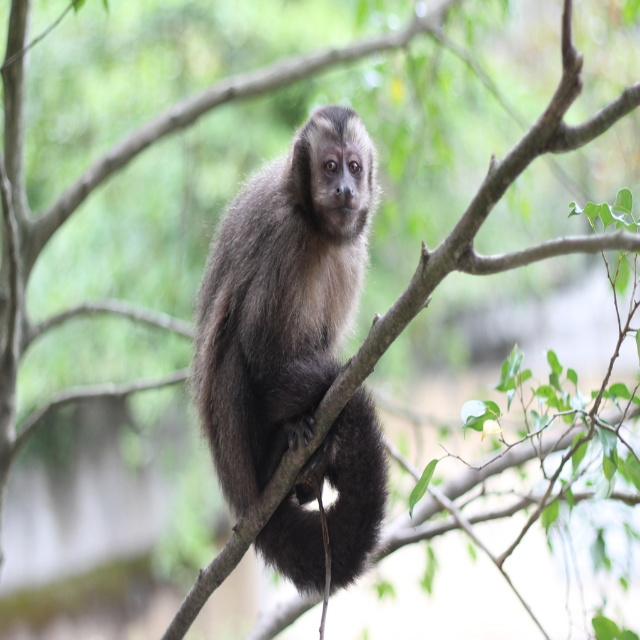Monkey: (192, 106, 390, 592)
